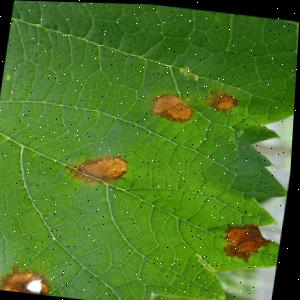Folha: (0, 0, 300, 300)
Fungo: (65, 148, 130, 186), (221, 218, 276, 262), (0, 262, 57, 295), (147, 90, 195, 123), (199, 83, 242, 113), (222, 239, 254, 260), (178, 64, 199, 79)
